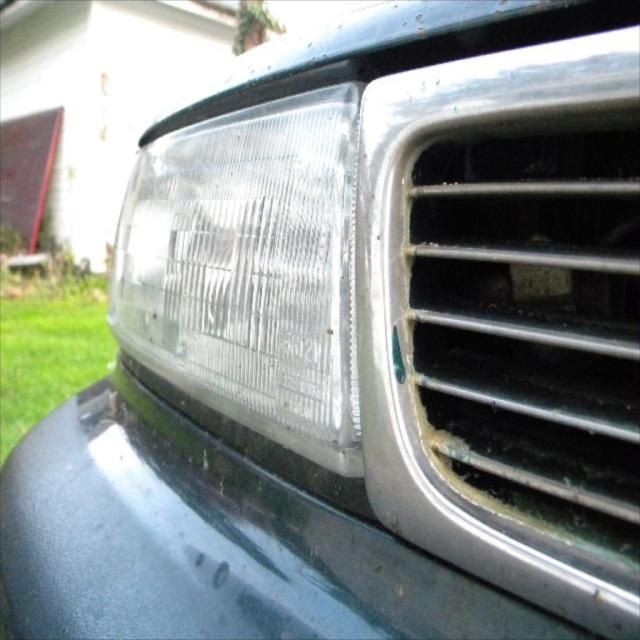car: (135, 15, 639, 638)
